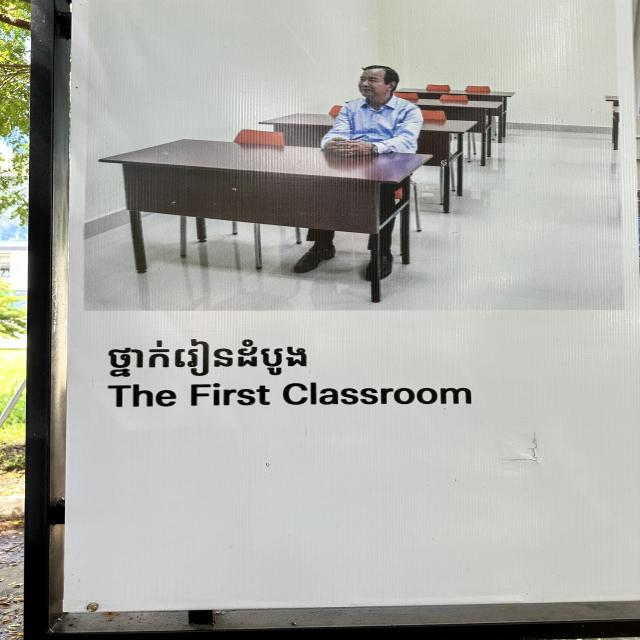Yolov11_80vkh: (93, 332, 327, 381)
